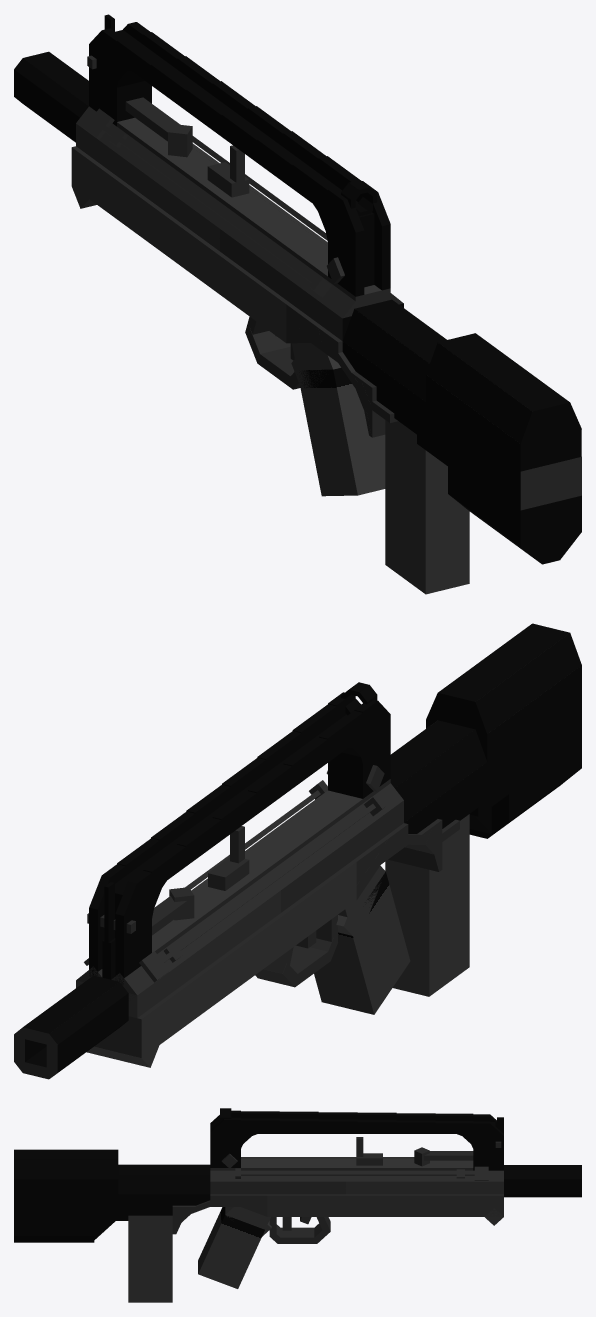
Rendered from mteg_famas.glb.
3 renders of one model, top to bottom at view 1: azimuth 30°, elevation 25°; view 2: azimuth 150°, elevation 25°; view 3: azimuth 270°, elevation 25°, orthographic. The views are drawn at different scales.
Visible parts, largest first — view 1: Gun; view 2: Gun; view 3: Gun.
Boxes of the visible parts, x1,y1,x2,y2 form: Gun: (14, 14, 581, 594); Gun: (14, 623, 581, 1079); Gun: (14, 1108, 581, 1302).
Bounding box in the file's own units: 0.1053 × 0.4632 × 1.27.
Materials: 1 (1 with a texture image).
